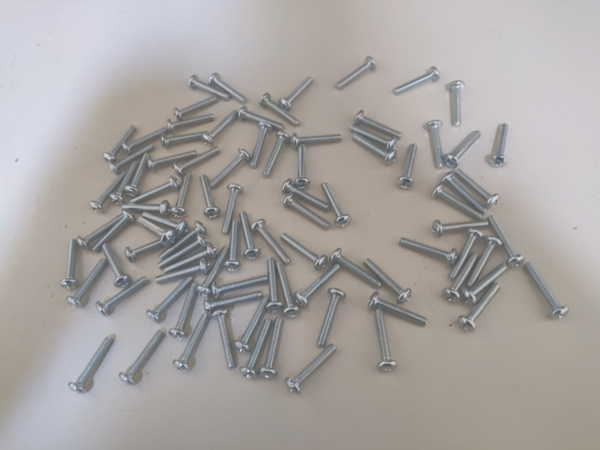longscrew: (97, 266, 155, 314), (119, 331, 169, 385), (525, 263, 571, 319), (70, 338, 116, 394), (286, 349, 343, 393), (364, 257, 410, 304), (158, 215, 206, 260), (462, 263, 513, 305), (177, 315, 215, 371), (235, 296, 271, 355), (151, 276, 197, 322), (243, 318, 277, 380), (70, 252, 107, 307), (296, 265, 345, 306), (458, 284, 501, 330), (487, 214, 525, 266), (332, 246, 380, 287), (76, 208, 124, 249), (369, 292, 428, 325), (160, 241, 217, 275), (281, 226, 325, 270), (170, 284, 205, 337), (158, 234, 211, 269), (91, 211, 134, 254), (208, 150, 255, 189), (259, 319, 289, 380), (317, 290, 348, 349), (130, 171, 181, 206), (447, 230, 484, 278), (466, 236, 503, 284), (442, 251, 479, 299), (127, 226, 176, 262), (457, 168, 501, 208), (443, 174, 487, 214), (198, 245, 233, 295), (436, 180, 479, 220), (152, 255, 211, 284), (99, 233, 128, 291), (253, 220, 293, 262), (87, 168, 125, 212), (284, 195, 330, 231), (211, 270, 271, 297), (375, 305, 398, 373), (203, 289, 263, 315), (322, 182, 353, 230), (108, 143, 156, 174), (263, 129, 292, 179), (215, 310, 238, 373), (335, 55, 375, 91), (352, 133, 396, 165), (400, 238, 456, 263), (172, 147, 222, 175), (159, 123, 209, 151), (283, 178, 328, 209), (109, 159, 139, 204), (102, 125, 139, 161), (167, 106, 216, 133), (391, 67, 440, 93), (220, 186, 246, 235), (206, 105, 240, 142), (210, 71, 248, 104), (190, 69, 228, 102), (145, 148, 197, 172), (275, 262, 297, 318), (447, 133, 484, 166), (119, 127, 172, 150), (137, 212, 175, 244), (139, 212, 189, 236), (261, 93, 297, 126), (60, 238, 82, 292), (175, 94, 220, 120), (358, 110, 401, 137), (351, 124, 396, 149), (225, 218, 245, 274), (239, 107, 287, 129), (127, 155, 153, 195), (175, 171, 197, 218), (282, 78, 317, 107), (250, 124, 273, 168), (240, 209, 260, 259), (399, 142, 420, 188), (433, 217, 488, 234), (200, 169, 218, 219), (117, 198, 172, 214), (265, 258, 281, 312), (492, 123, 511, 168), (295, 142, 312, 192), (293, 131, 342, 147), (450, 80, 464, 127), (430, 121, 444, 168)
